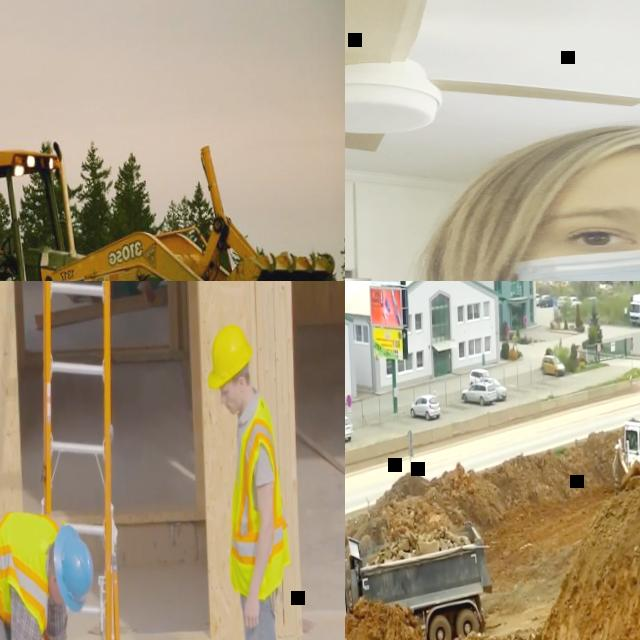Hardhat: (52, 524, 95, 612), (205, 322, 252, 391)
NO-Hardhat: (484, 119, 640, 215)
NO-Mask: (224, 392, 238, 413), (51, 587, 60, 607)
Person: (345, 112, 640, 281), (214, 320, 295, 640), (0, 506, 97, 640), (63, 281, 152, 306)
Safety Vest: (224, 392, 292, 598), (0, 508, 59, 637)
vehicle: (0, 80, 343, 281), (345, 518, 495, 640), (609, 416, 640, 496), (460, 382, 497, 406), (410, 393, 440, 421), (478, 376, 506, 402), (540, 354, 565, 376), (628, 290, 640, 327), (468, 368, 491, 387), (538, 294, 556, 308), (345, 413, 353, 443), (598, 281, 613, 294), (566, 296, 582, 308), (556, 295, 569, 309), (536, 292, 540, 306)
